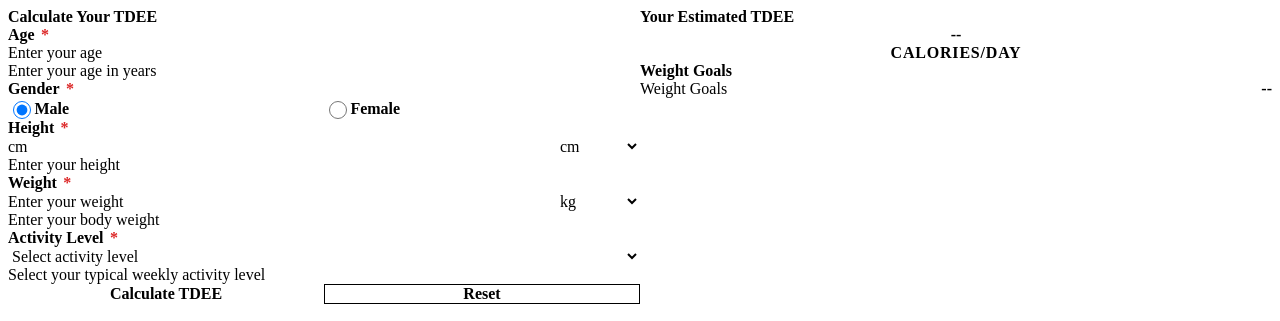
TDEECalculator › computes the TDEE and source weight goals end-to-end
The image size is (1280, 321).
Type "30" into the number field labelled "Age" at (324,53), box [8,44,640,62]
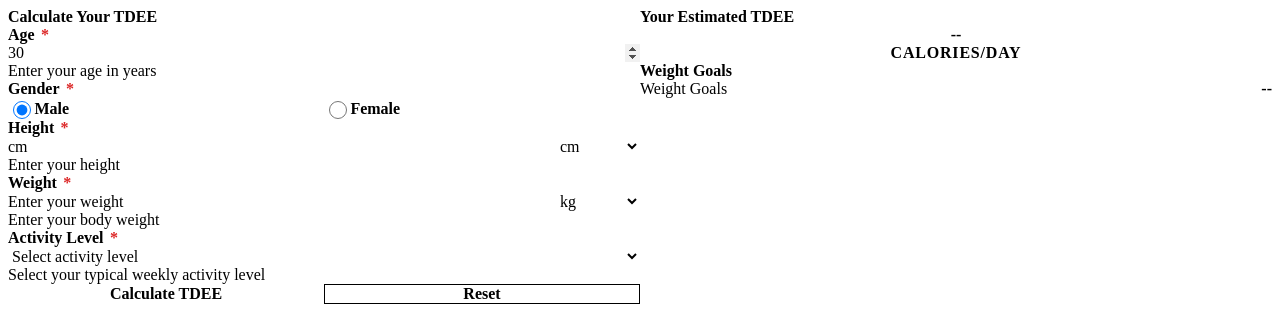
Type "180" into the number field named "Height" at (282,147), box [8,137,556,156]
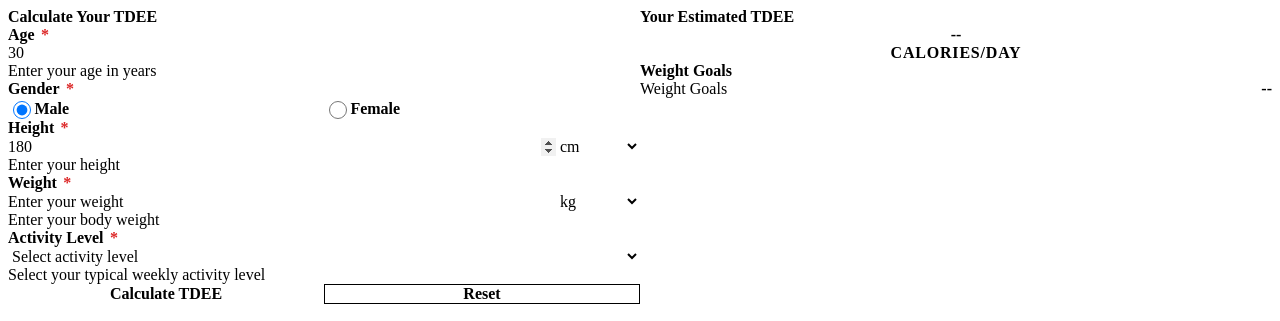
Type "80" into the number field labelled "weight" at (282,202), box [8,192,556,211]
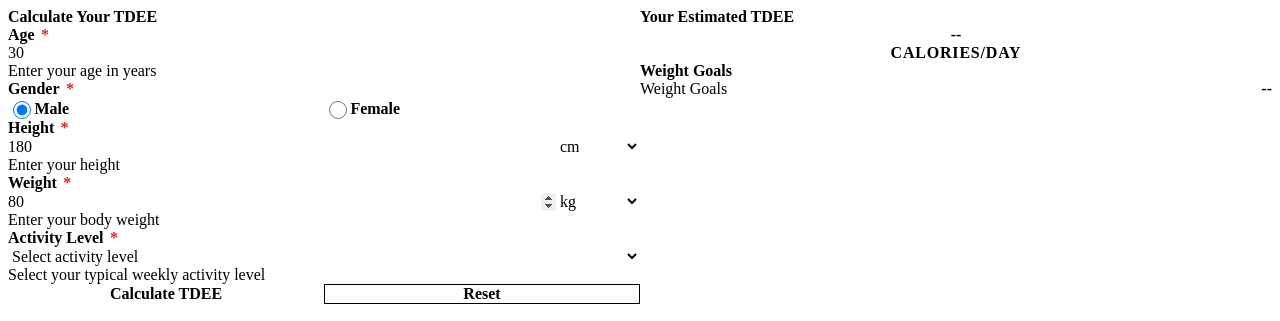
Select "Moderately Active (moderate exercise/sports 3-5 days/week)" in the dropdown labelled "Activity Level" at (324,257), box [8,247,640,266]
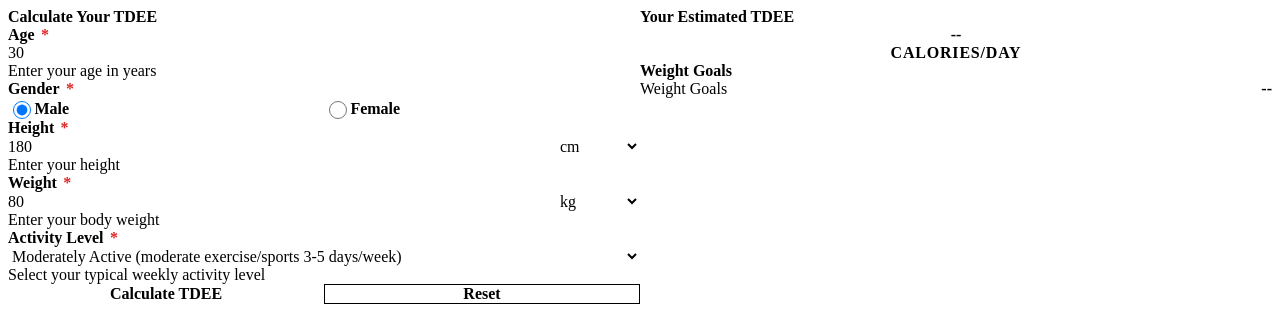
Click the button "Calculate TDEE" at (166,294), box [8,284,324,304]
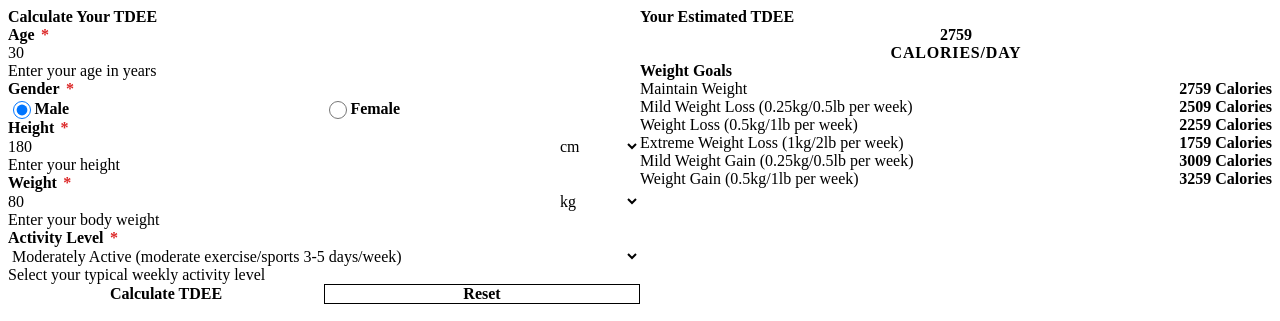
Expected: the element "Your Estimated TDEE" shows "2759", [940,26,972,43]
Expected: the element "Your Estimated TDEE" shows "Maintain Weight", [640,80,747,97]
Expected: the element "Your Estimated TDEE" shows "2509 Calories", [1179,98,1272,115]
